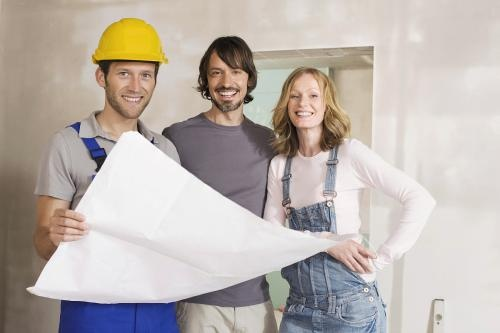none: (274, 63, 346, 144), (195, 35, 262, 112)
yellow: (87, 13, 170, 121)
